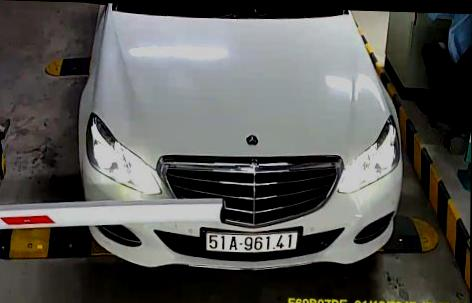License_Plate: (204, 225, 302, 257)
